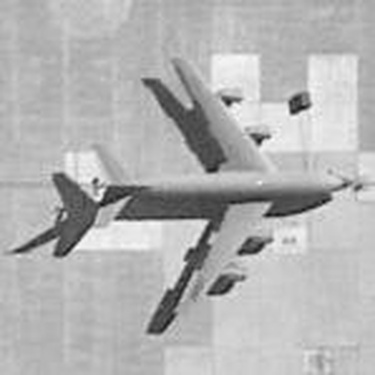airplane: (55, 42, 358, 323)
